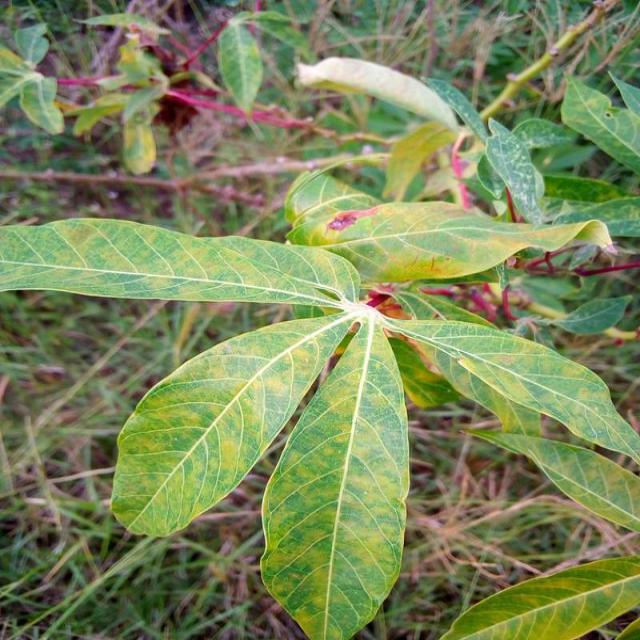cassava leaf: (110, 307, 358, 538), (260, 309, 410, 638), (283, 165, 613, 286), (0, 214, 361, 310), (438, 553, 640, 638)
